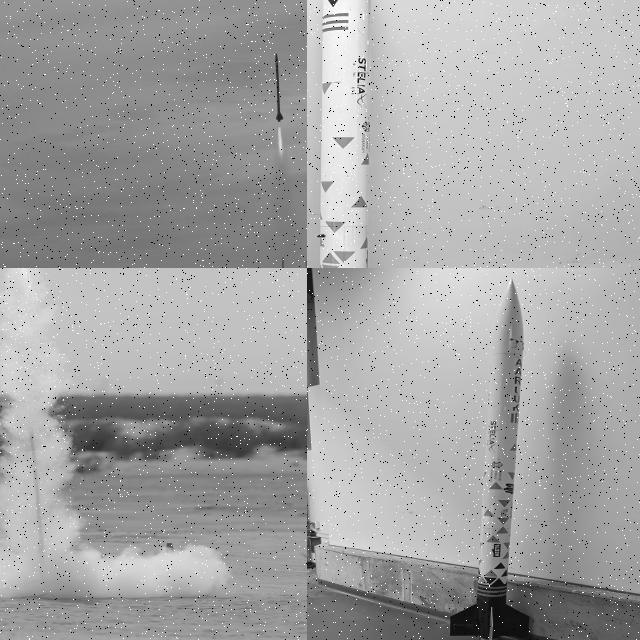Rocket: (450, 279, 530, 640), (317, 0, 372, 268), (275, 52, 284, 122)
